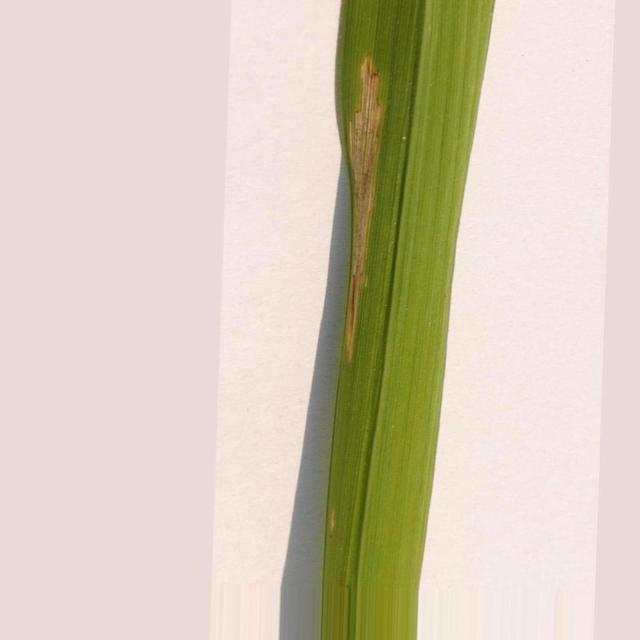Bacterial_Leaf_Blight: (345, 55, 385, 361)
